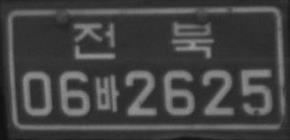0: (21, 71, 53, 117)
2: (201, 68, 234, 116), (125, 69, 157, 116)
5: (240, 68, 273, 116)
6: (163, 69, 195, 116), (59, 69, 90, 117)
바: (94, 74, 119, 112)
전북_D: (73, 21, 214, 58)
